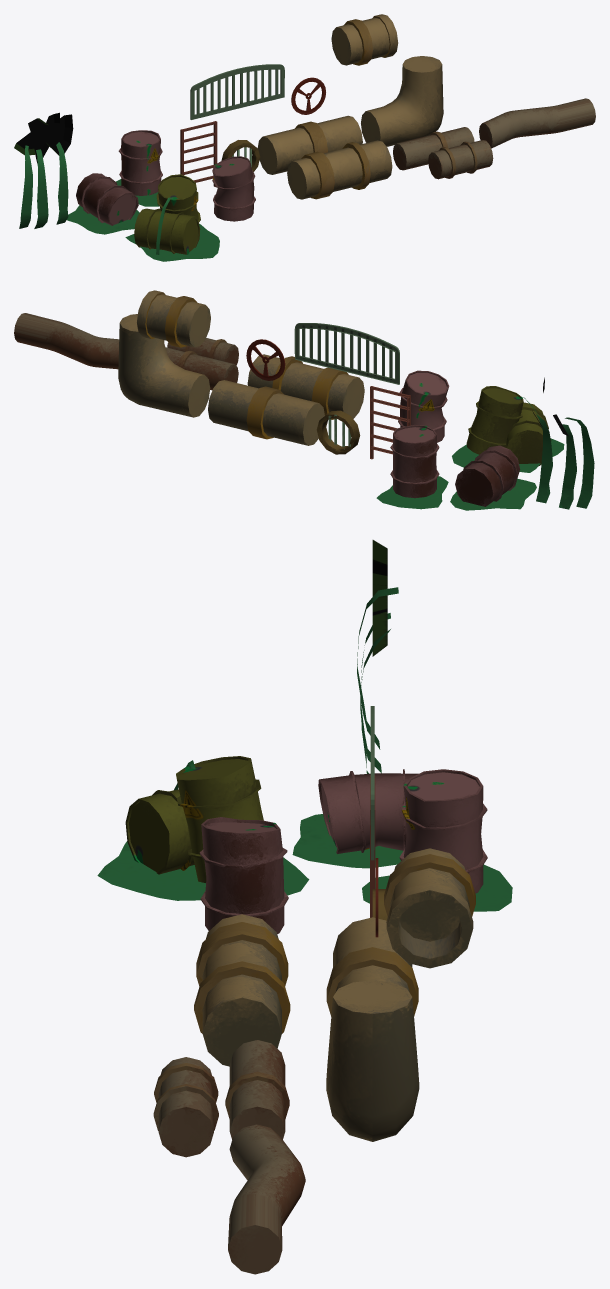
The model's file is Stage 2 Part 1.fbx.
The picture shows the model from 3 angles, top to bottom: view 1: azimuth 30°, elevation 25°; view 2: azimuth 150°, elevation 25°; view 3: azimuth 270°, elevation 25°; orthographic projection. The views are drawn at different scales.
Visible parts, largest first — view 1: Pipe.002, Pipe, Pipe.001, Pipe.004, Pipe.003, Hole.001, Barrel.004, Barrel.002, Barrel.001, Barrel.003, Pipe.006, Pipe.005 (+10 smaller); view 2: Pipe.002, Pipe.001, Pipe, Pipe.004, Pipe.003, Barrel.004, Hole.001, Barrel.003, Barrel, Barrel.002, Barrel.001, Pipe.005 (+10 smaller); view 3: Pipe.002, Pipe, Pipe.003, Barrel.002, Pipe.004, Barrel.004, Barrel.003, Barrel, Pipe.006, Pipe.005, Pipe.001, Barrel.001 (+4 smaller).
Boxes of the visible parts, x1=… form: Pipe.002: x1=361, y1=56, x2=443, y2=146; Pipe: x1=287, y1=140, x2=392, y2=199; Pipe.001: x1=257, y1=115, x2=362, y2=174; Pipe.004: x1=479, y1=98, x2=595, y2=148; Pipe.003: x1=331, y1=14, x2=398, y2=65; Hole.001: x1=190, y1=64, x2=284, y2=119; Barrel.004: x1=118, y1=130, x2=162, y2=195; Barrel.002: x1=212, y1=156, x2=255, y2=221; Barrel.001: x1=134, y1=208, x2=200, y2=254; Barrel.003: x1=76, y1=173, x2=138, y2=225; Pipe.006: x1=428, y1=140, x2=493, y2=179; Pipe.005: x1=393, y1=127, x2=474, y2=170; Pipe.002: x1=118, y1=314, x2=210, y2=417; Pipe.001: x1=208, y1=380, x2=324, y2=445; Pipe: x1=247, y1=354, x2=364, y2=419; Pipe.004: x1=14, y1=313, x2=119, y2=369; Pipe.003: x1=137, y1=290, x2=210, y2=347; Barrel.004: x1=390, y1=425, x2=439, y2=498; Hole.001: x1=294, y1=323, x2=399, y2=384; Barrel.003: x1=455, y1=445, x2=520, y2=506; Barrel: x1=466, y1=386, x2=523, y2=454; Barrel.002: x1=398, y1=370, x2=449, y2=442; Barrel.001: x1=505, y1=402, x2=551, y2=466; Pipe.005: x1=165, y1=347, x2=238, y2=390; Pipe.002: x1=326, y1=980, x2=419, y2=1141; Pipe: x1=194, y1=914, x2=290, y2=1066; Pipe.003: x1=384, y1=848, x2=475, y2=968; Barrel.002: x1=199, y1=817, x2=288, y2=933; Pipe.004: x1=228, y1=1124, x2=305, y2=1274; Barrel.004: x1=399, y1=769, x2=487, y2=893; Barrel.003: x1=318, y1=769, x2=418, y2=853; Barrel: x1=176, y1=756, x2=263, y2=882; Pipe.006: x1=153, y1=1057, x2=218, y2=1157; Pipe.005: x1=225, y1=1040, x2=289, y2=1139; Pipe.001: x1=326, y1=917, x2=418, y2=1016; Barrel.001: x1=125, y1=789, x2=194, y2=874.
Size of the model in its own units: 31.72 by 7.01 by 10.45.
